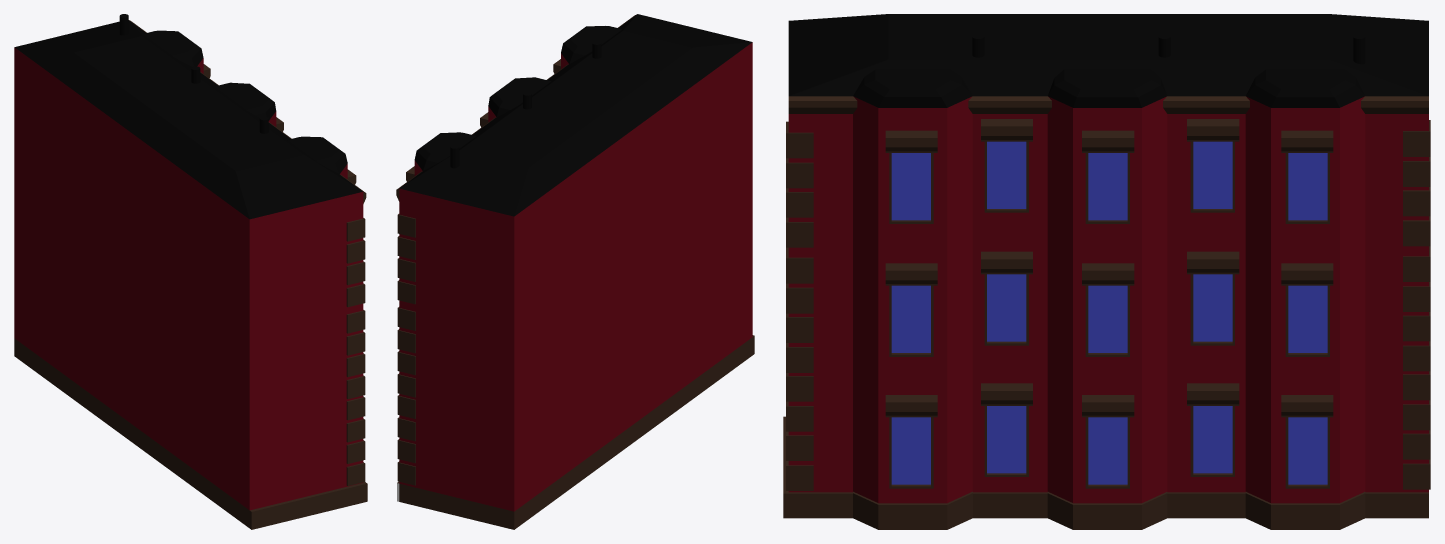
Rendered from Дом 5.fbx.
The picture shows the model from 3 angles, left to right: view 1: azimuth 30°, elevation 25°; view 2: azimuth 150°, elevation 25°; view 3: azimuth 270°, elevation 25°; orthographic projection. The views are drawn at different scales.
Parts seen in each view (by area): view 1: Cube; view 2: Cube; view 3: Cube.
Boxes of the visible parts, left/top/right/bottom form: Cube: left=14, top=14, right=367, bottom=529; Cube: left=396, top=14, right=754, bottom=529; Cube: left=783, top=14, right=1430, bottom=529.
Size of the model in its own units: 1611 by 3669 by 4672.
